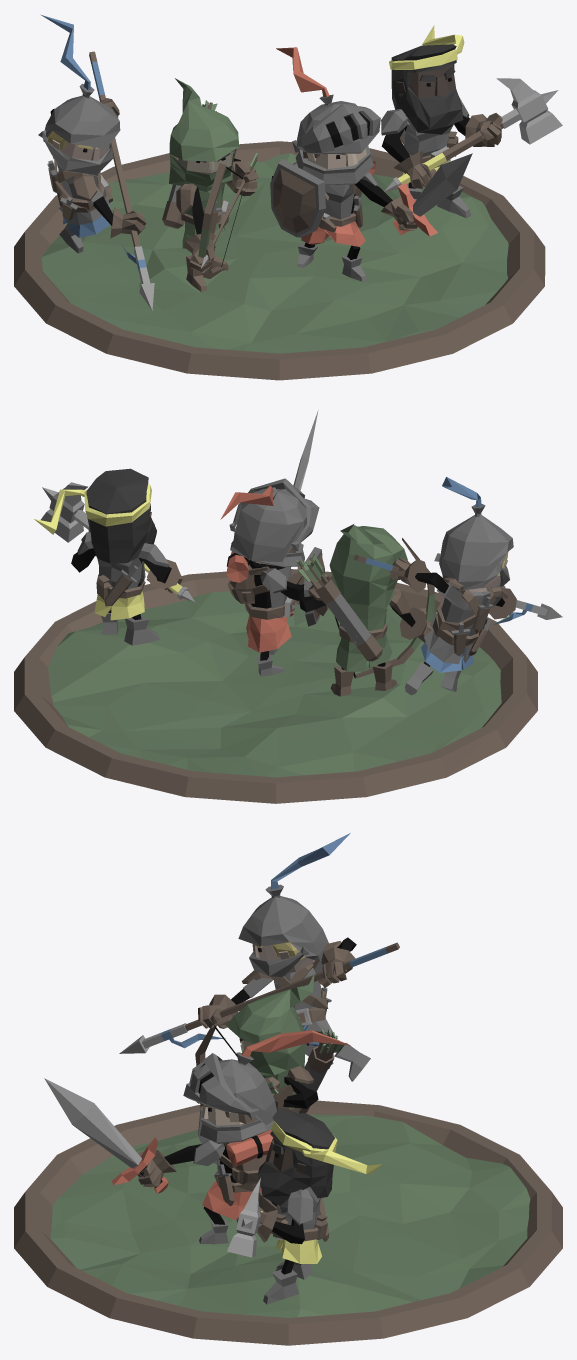
File: completeModel.fbx
3 renders of one model, top to bottom at view 1: azimuth 30°, elevation 25°; view 2: azimuth 150°, elevation 25°; view 3: azimuth 270°, elevation 25°, orthographic. The views are drawn at different scales.
Visible parts, largest first — view 1: pPlane2_green_0__ID14, pPlane2_brown_0__ID26, pPlane2_dark_metal_0__ID38, pPlane2_light_metal_0__ID73, pPlane2_black_hair_0__ID154, pPlane2_lambert2_0__ID50, pPlane2_red_0__ID119, pPlane2_blue_0__ID61, pPlane2_yellow_0__ID131, pPlane2_skin_dk_0__ID143, pPlane2_skin_0__ID96, pPlane2_skin_2_0__ID85 (+1 smaller); view 2: pPlane2_green_0__ID14, pPlane2_brown_0__ID26, pPlane2_dark_metal_0__ID38, pPlane2_black_hair_0__ID154, pPlane2_light_metal_0__ID73, pPlane2_lambert2_0__ID50, pPlane2_yellow_0__ID131, pPlane2_red_0__ID119, pPlane2_blue_0__ID61; view 3: pPlane2_green_0__ID14, pPlane2_brown_0__ID26, pPlane2_dark_metal_0__ID38, pPlane2_light_metal_0__ID73, pPlane2_black_hair_0__ID154, pPlane2_red_0__ID119, pPlane2_lambert2_0__ID50, pPlane2_yellow_0__ID131, pPlane2_blue_0__ID61.
Boxes of the visible parts, x1,y1,x2,y2 form: pPlane2_green_0__ID14: (42, 78, 508, 353); pPlane2_brown_0__ID26: (14, 51, 545, 380); pPlane2_dark_metal_0__ID38: (38, 83, 470, 281); pPlane2_light_metal_0__ID73: (97, 78, 562, 310); pPlane2_black_hair_0__ID154: (199, 44, 463, 162); pPlane2_lambert2_0__ID50: (50, 77, 469, 266); pPlane2_red_0__ID119: (276, 47, 437, 246); pPlane2_blue_0__ID61: (40, 14, 146, 271); pPlane2_yellow_0__ID131: (389, 25, 464, 184); pPlane2_skin_dk_0__ID143: (396, 65, 455, 98); pPlane2_skin_0__ID96: (307, 148, 366, 169); pPlane2_skin_2_0__ID85: (52, 139, 109, 161); pPlane2_green_0__ID14: (48, 524, 510, 777); pPlane2_brown_0__ID26: (14, 526, 537, 803); pPlane2_dark_metal_0__ID38: (77, 478, 513, 695); pPlane2_black_hair_0__ID154: (86, 468, 156, 563); pPlane2_light_metal_0__ID73: (41, 410, 562, 642); pPlane2_lambert2_0__ID50: (71, 548, 504, 677); pPlane2_yellow_0__ID131: (34, 484, 182, 620); pPlane2_red_0__ID119: (220, 486, 293, 652); pPlane2_blue_0__ID61: (364, 477, 533, 672); pPlane2_green_0__ID14: (50, 973, 530, 1317); pPlane2_brown_0__ID26: (14, 941, 562, 1345); pPlane2_dark_metal_0__ID38: (183, 884, 370, 1304); pPlane2_light_metal_0__ID73: (44, 1008, 312, 1257); pPlane2_black_hair_0__ID154: (239, 1037, 334, 1205); pPlane2_red_0__ID119: (111, 1030, 350, 1220); pPlane2_lambert2_0__ID50: (140, 937, 356, 1274); pPlane2_yellow_0__ID131: (260, 1121, 382, 1263); pPlane2_blue_0__ID61: (161, 833, 387, 1048).
Size of the model in its own units: 941 by 513 by 878.
